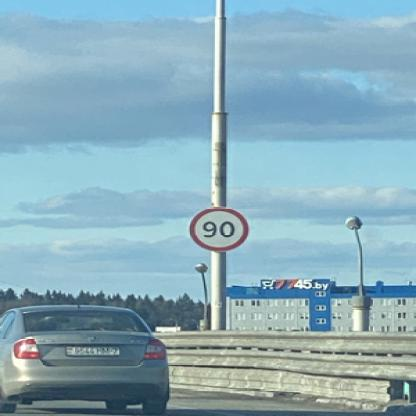speedlimit: (186, 204, 247, 250)
